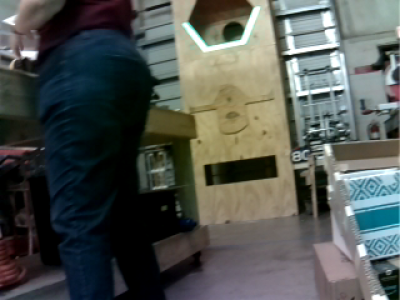target: (181, 4, 262, 54)
